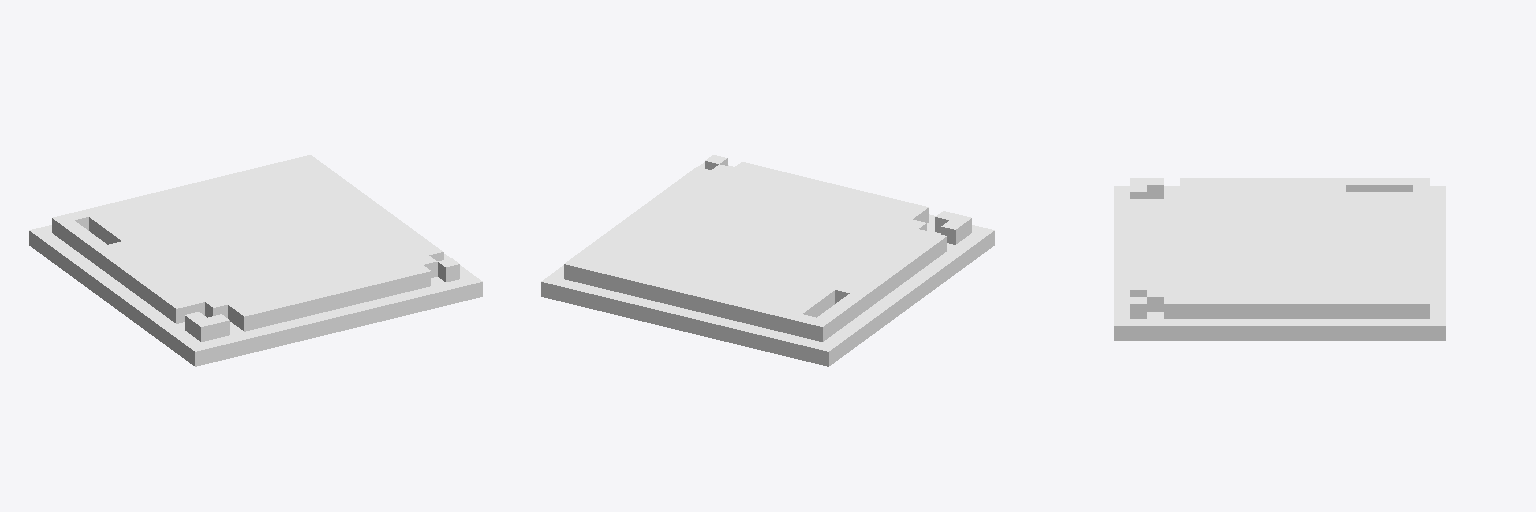
Rendered from Stenka1-21.obj.
3 views of the same model, side by side, from view 1: azimuth 30°, elevation 25°; view 2: azimuth 150°, elevation 25°; view 3: azimuth 270°, elevation 25° (orthographic).
Visible parts, largest first — view 1: object 1; view 2: object 1; view 3: object 1.
Part boxes in pixels (x1,y1,x2,y2): object 1: (29, 155, 482, 366); object 1: (541, 155, 994, 366); object 1: (1114, 178, 1445, 340).
Bounding box in the file's own units: 2 × 0.2 × 2.